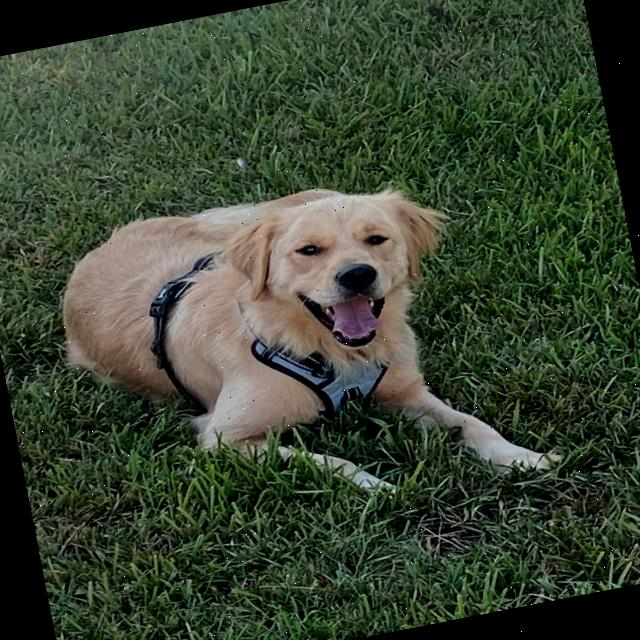golden_retriever_dog: (192, 158, 480, 386)
